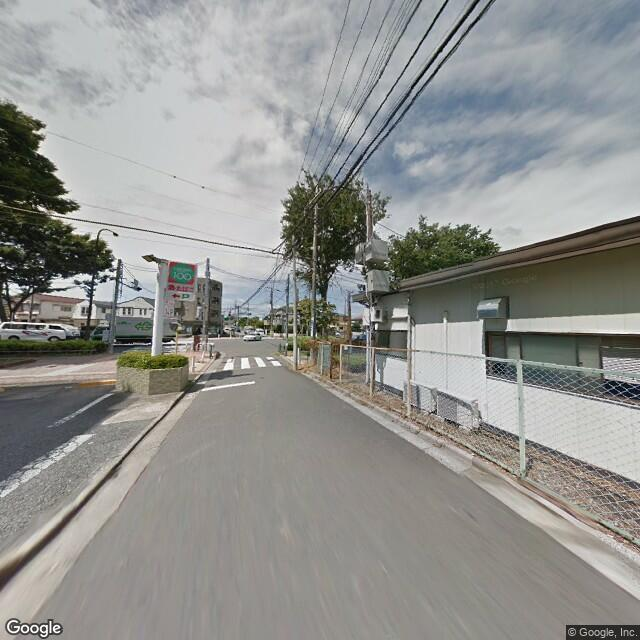lawson: (163, 257, 195, 290)
